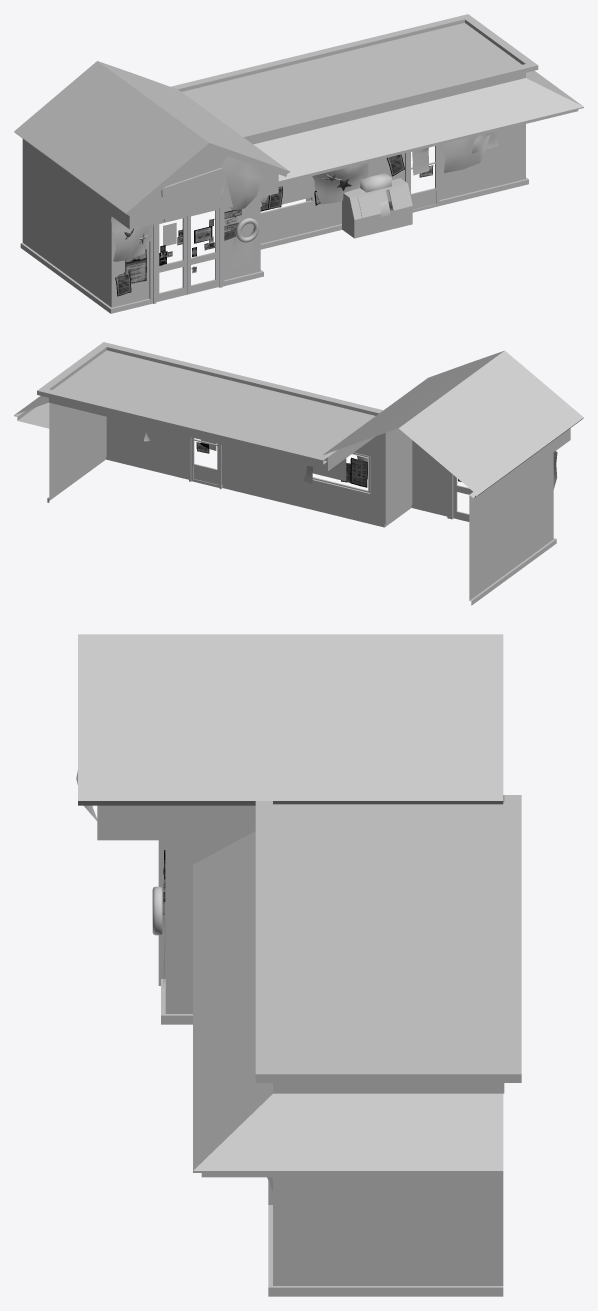
Rendered from Fishing.fbx.
The picture shows the model from 3 angles, top to bottom: view 1: azimuth 30°, elevation 25°; view 2: azimuth 150°, elevation 25°; view 3: azimuth 270°, elevation 25°; orthographic projection. The views are drawn at different scales.
Parts seen in each view (by area): view 1: exterior, icebox, front_door_R, front_door_L, side_door, icebox door L; view 2: exterior, side_door, front_door_R; view 3: exterior.
Boxes of the visible parts, left/top/right/bottom form: exterior: left=14, top=14, right=583, bottom=313; icebox: left=342, top=173, right=412, bottom=238; front_door_R: left=187, top=208, right=219, bottom=294; front_door_L: left=156, top=215, right=186, bottom=302; side_door: left=407, top=145, right=438, bottom=212; icebox door L: left=357, top=192, right=379, bottom=217; exterior: left=14, top=342, right=583, bottom=605; side_door: left=191, top=437, right=219, bottom=487; front_door_R: left=453, top=475, right=472, bottom=521; exterior: left=76, top=634, right=521, bottom=1296.
Bounding box in the file's own units: 1217 × 506 × 401.
